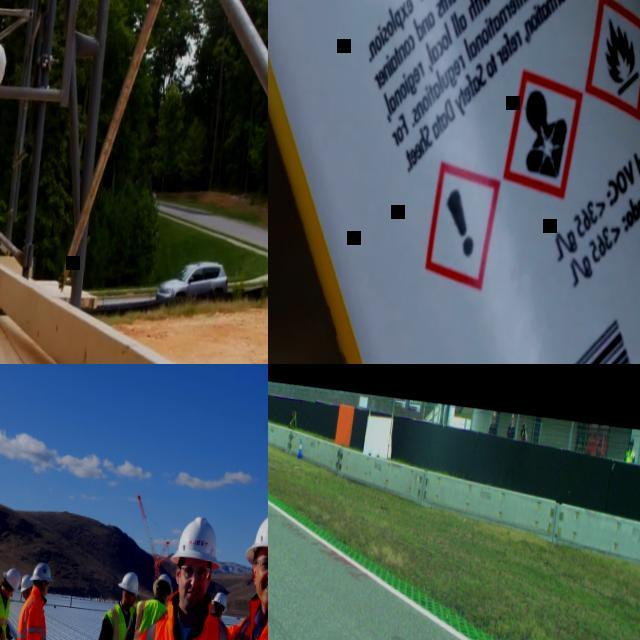helmet: (168, 512, 228, 571), (243, 505, 268, 572), (29, 559, 54, 585), (117, 570, 141, 596), (1, 564, 24, 591), (151, 570, 175, 594), (0, 34, 8, 99), (211, 591, 231, 612), (18, 571, 34, 595)
vest: (101, 585, 238, 640), (12, 585, 52, 640), (125, 595, 168, 640), (98, 600, 136, 640), (0, 587, 12, 640)
